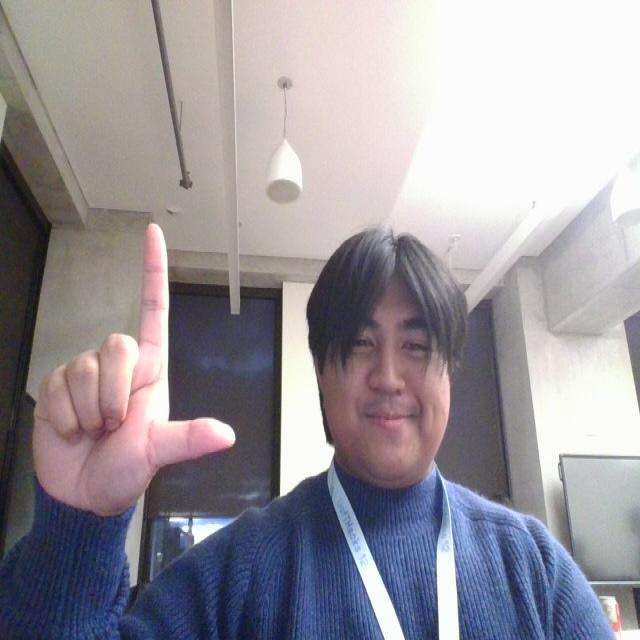Lsign: (27, 217, 242, 516)
